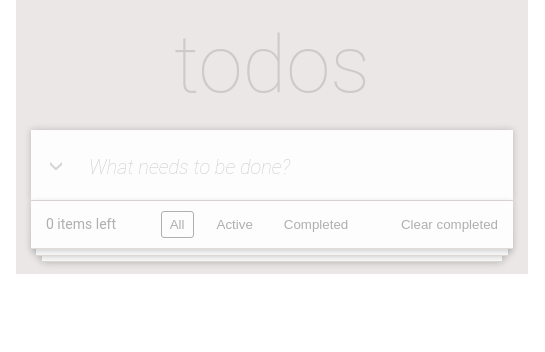
Test: MAIN FUNCTIONS › adds a new todo
Type "Test" into the field with placeholder "What needs to be done?".
click(272, 166); type("Test")  # box x1=31 y1=130 x2=513 y2=201
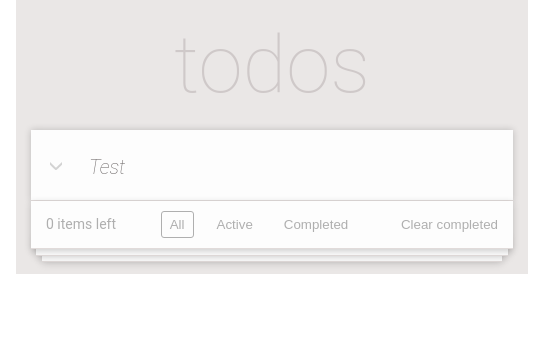
Press Enter in the field with placeholder "What needs to be done?", box x1=31 y1=130 x2=513 y2=201
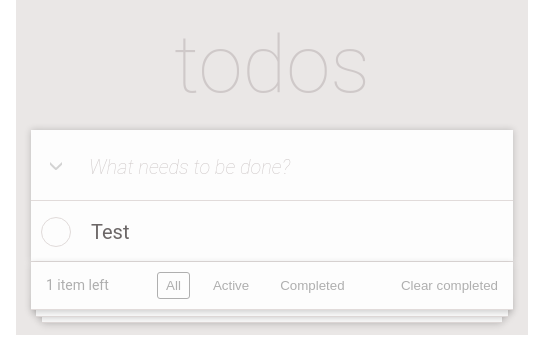
Check: the checkbox "Test" is shown, box x1=71 y1=219 x2=129 y2=245
